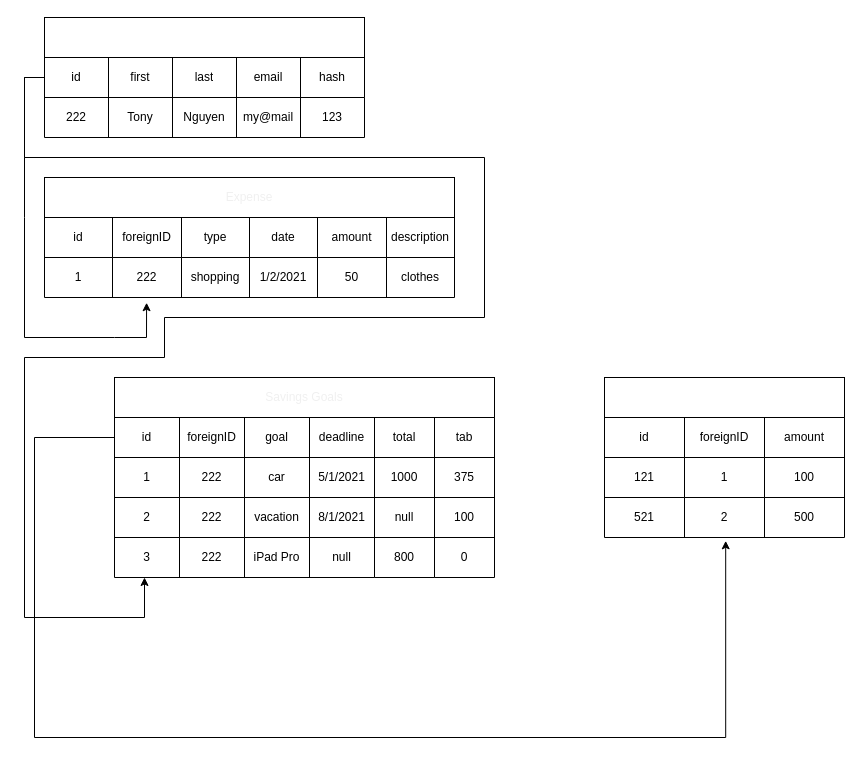
Image size: 862x763. Some labels were removed from this diagram. Here are the shapes that lost their labels. From the top down, the box of each, then its label:
(44, 16, 364, 58): User
(604, 376, 844, 418): Savings Allocation
